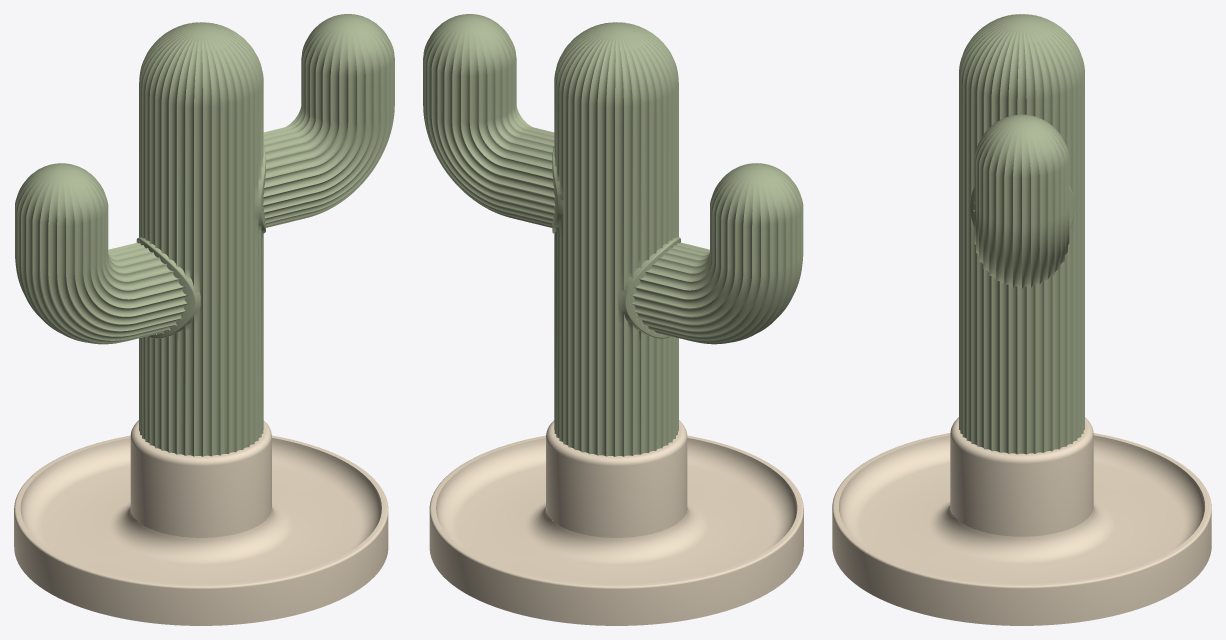
The model's file is cactus-organizer.glb.
The picture shows the model from 3 angles, left to right: view 1: azimuth 30°, elevation 25°; view 2: azimuth 150°, elevation 25°; view 3: azimuth 270°, elevation 25°; orthographic projection.
Visible parts, largest first — view 1: Base, Column, Arms; view 2: Base, Column, Arms; view 3: Base, Column, Arms.
Boxes of the visible parts, <box> form: Base: <box>14,420,388,625</box>; Column: <box>136,22,265,456</box>; Arms: <box>15,14,394,344</box>; Base: <box>429,420,803,625</box>; Column: <box>552,22,680,456</box>; Arms: <box>423,14,803,344</box>; Base: <box>832,417,1211,625</box>; Column: <box>959,14,1084,454</box>; Arms: <box>974,114,1069,288</box>.
Bounding box in the file's own units: 198 × 268 × 175.
